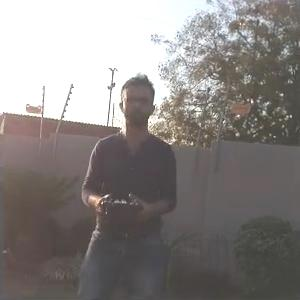follow: (69, 65, 186, 298)
